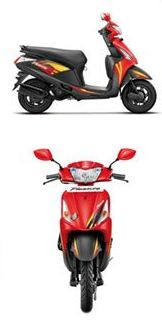bike: (32, 146, 140, 317), (10, 9, 157, 115)
